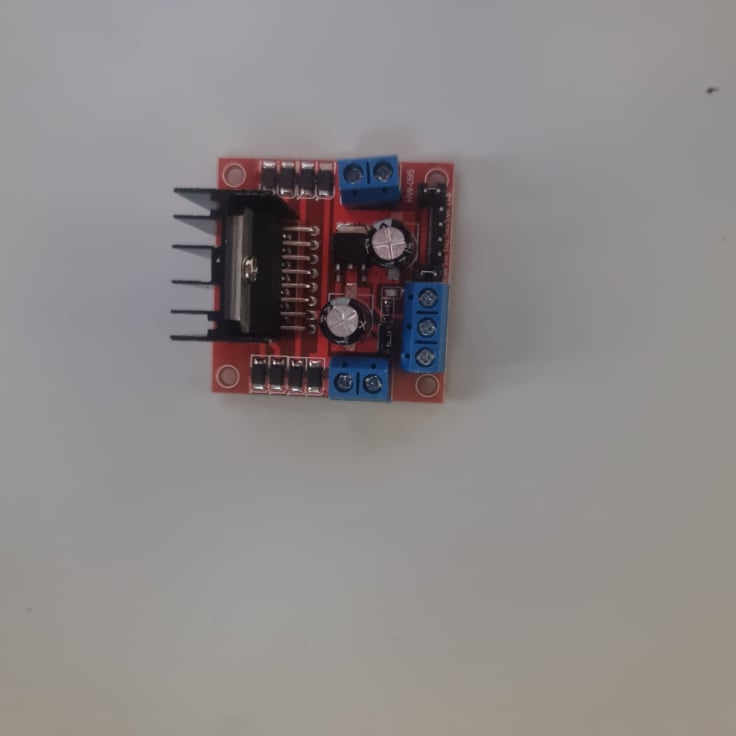MOTOR: (174, 155, 449, 406)
